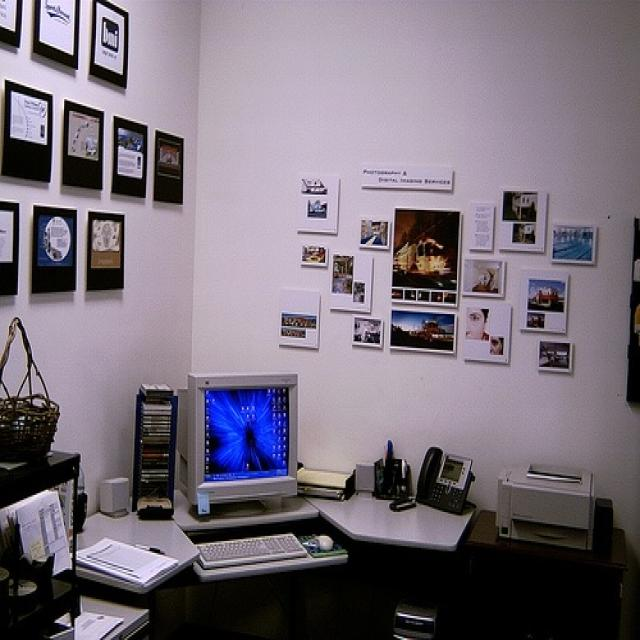tvmonitor: (175, 374, 297, 510)
